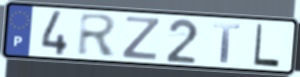2: (166, 16, 201, 66)
4: (40, 9, 70, 58)
L: (252, 23, 282, 69)
R: (76, 12, 119, 58)
T: (211, 22, 242, 65)
Z: (120, 15, 162, 62)
